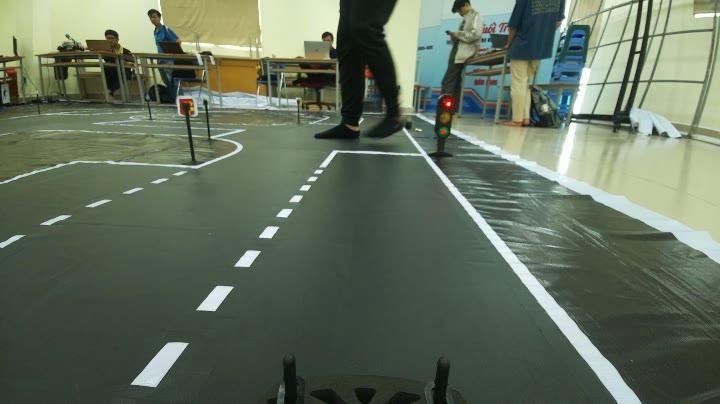trafficlight: (422, 88, 467, 169)
